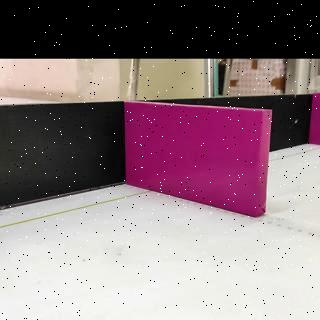xparking: (126, 114, 268, 208)
